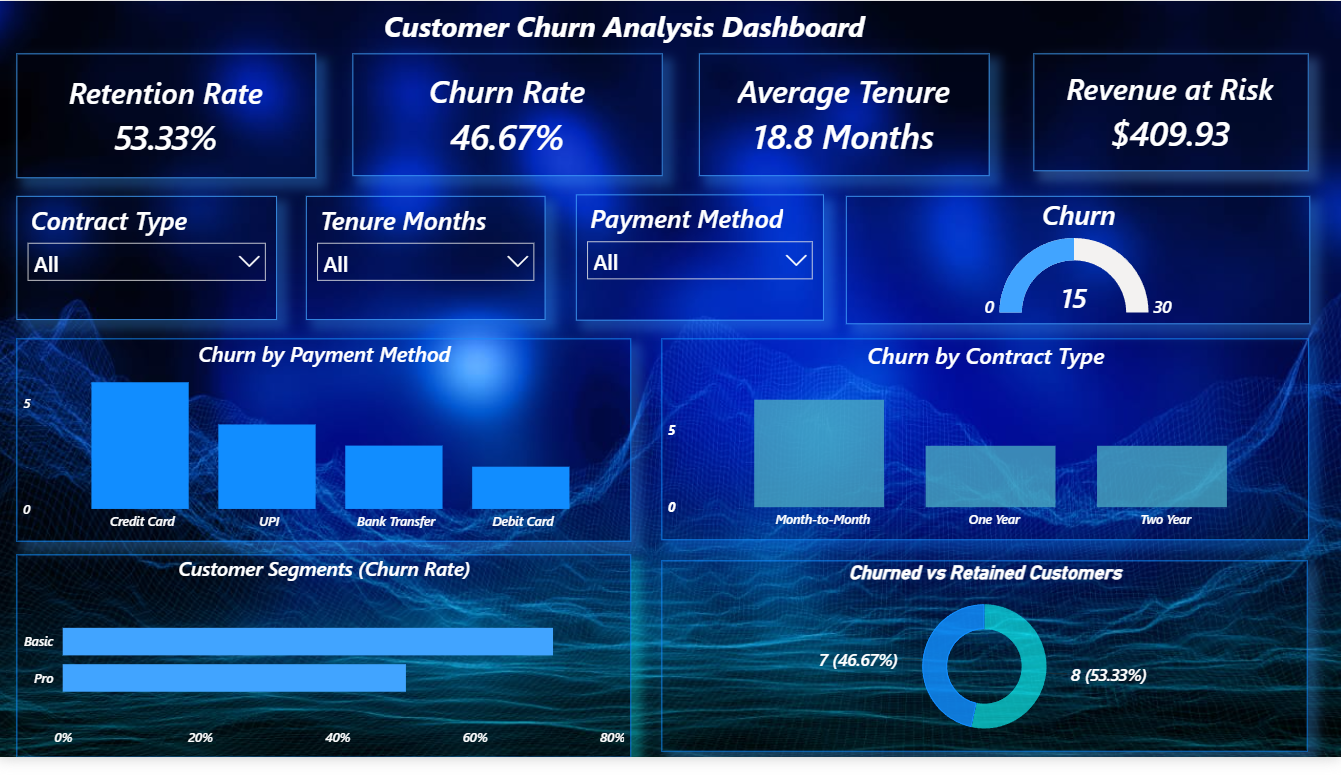

The dashboard page shown, as its layout file describes it:
{"tool":"powerbi","page":{"name":"Page 1","canvas":[1280,720],"ordinal":0},"visuals":[{"type":"slicer","fields":{"Values":["Sheet1.ContractType"]},"box":[18,186,248,118],"z":0},{"type":"clusteredColumnChart","title":"Churn by Contract Type","fields":{"Category":["Sheet1.ContractType"],"Y":["CountNonNull(Sheet1.Churn)"]},"box":[633.3,321.7,616.7,191.7],"z":1000},{"type":"clusteredColumnChart","title":"Churn by Payment Method","fields":{"Category":["Sheet1.PaymentMethod"],"Y":["CountNonNull(Sheet1.Churn)"]},"box":[18.3,321.7,585,193.3],"z":2000},{"type":"donutChart","title":"Churned vs Retained Customers","fields":{"Category":["Sheet1.Churn"],"Y":["CountNonNull(Sheet1.CustomerID)"]},"box":[633.3,533.3,615,181.7],"z":3000},{"type":"clusteredBarChart","title":"Customer Segments (Churn Rate)","fields":{"Y":["Sheet1.Churn Rate"],"Category":["Sheet1.SubscriptionType"]},"box":[18.3,526.7,585,193.3],"z":4000},{"type":"cardVisual","fields":{"Data":["Sheet1.Churn Rate"]},"box":[338.3,50,295,116.7],"z":5000},{"type":"cardVisual","fields":{"Data":["Sheet1.Retention Rate"]},"box":[18.3,50,285,118.3],"z":6000},{"type":"cardVisual","fields":{"Data":["Sheet1.Revenue at Risk"]},"box":[986.7,50,261.7,111.7],"z":7000},{"type":"slicer","fields":{"Values":["Sheet1.TenureMonths"]},"box":[294,186,228,118],"z":8000},{"type":"slicer","fields":{"Values":["Sheet1.PaymentMethod"]},"box":[552,184,236,120],"z":9000},{"type":"cardVisual","fields":{"Data":["Sheet1.Average Tenure Display"]},"box":[668.3,50,276.7,116.7],"z":10000},{"type":"gauge","title":"Churn","fields":{"Y":["CountNonNull(Sheet1.Churn)"]},"box":[808,186,442,122],"z":11000},{"type":"textbox","box":[100,0,995,50],"z":12000}]}

Visuals, with their boxes in screenshot pixels (x1, y1, x2, y2), scaled from the page's 1280x720 canvas onto the 1341x775 screenshot:
slicer - Sheet1.ContractType: (19,200,279,327)
"Churn by Contract Type" clusteredColumnChart: (663,346,1310,553)
"Churn by Payment Method" clusteredColumnChart: (19,346,632,554)
"Churned vs Retained Customers" donutChart: (663,574,1308,770)
"Customer Segments (Churn Rate)" clusteredBarChart: (19,567,632,774)
cardVisual - Sheet1.Churn Rate: (354,54,663,179)
cardVisual - Sheet1.Retention Rate: (19,54,318,181)
cardVisual - Sheet1.Revenue at Risk: (1034,54,1308,174)
slicer - Sheet1.TenureMonths: (308,200,547,327)
slicer - Sheet1.PaymentMethod: (578,198,826,327)
cardVisual - Sheet1.Average Tenure Display: (700,54,990,179)
"Churn" gauge: (847,200,1310,332)
textbox: (105,0,1147,54)
